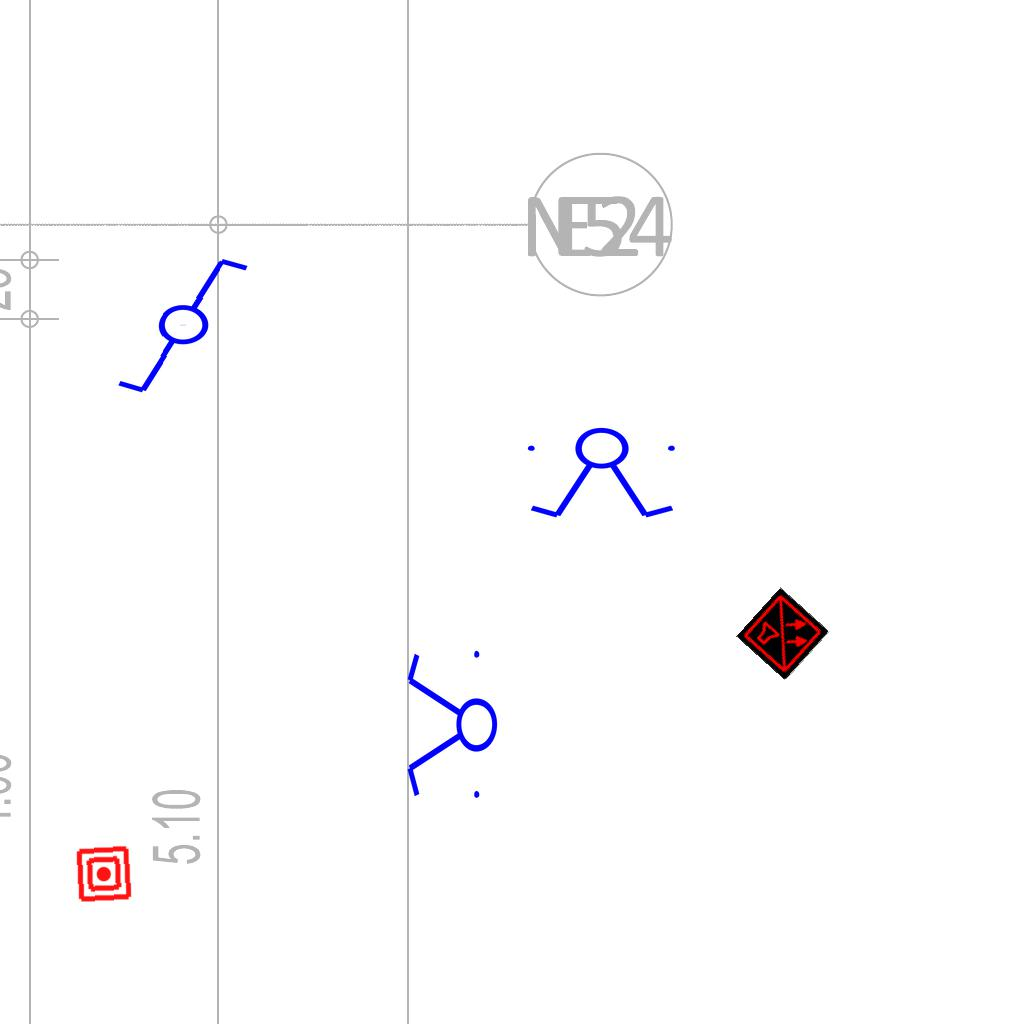NAM-Nichtautomatischer_Melder: (74, 844, 134, 904)
OKW_Multisensormelder_(Kombination_optischer_Rauch-Kahlenmonoxid_Waerme-Melder): (736, 587, 830, 681)
Serienschalter: (403, 642, 499, 810), (519, 426, 687, 522)
Wechselschalter: (111, 253, 272, 401)
